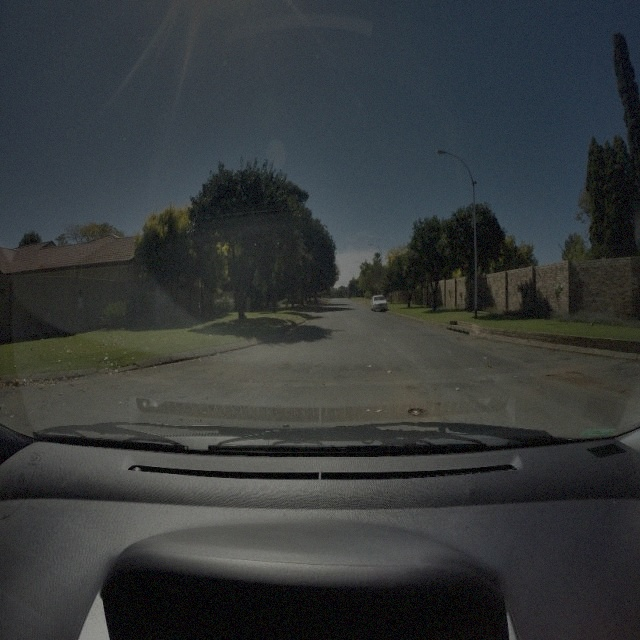pothole: (545, 368, 581, 383), (404, 404, 426, 420)
